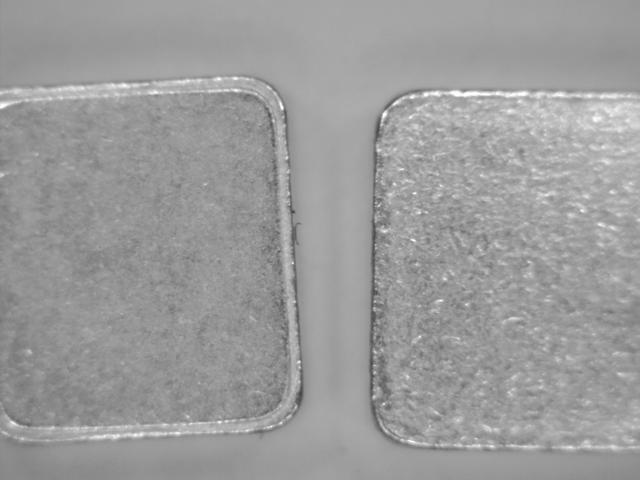nok: (8, 71, 306, 455)
ok: (367, 83, 640, 458)
